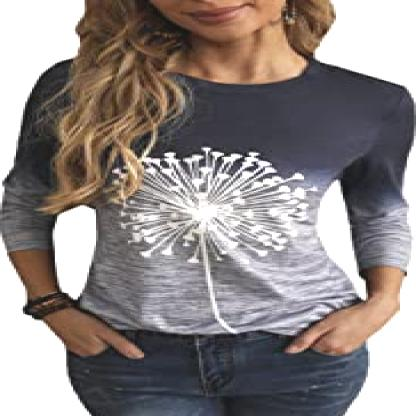dress: (2, 44, 416, 346)
